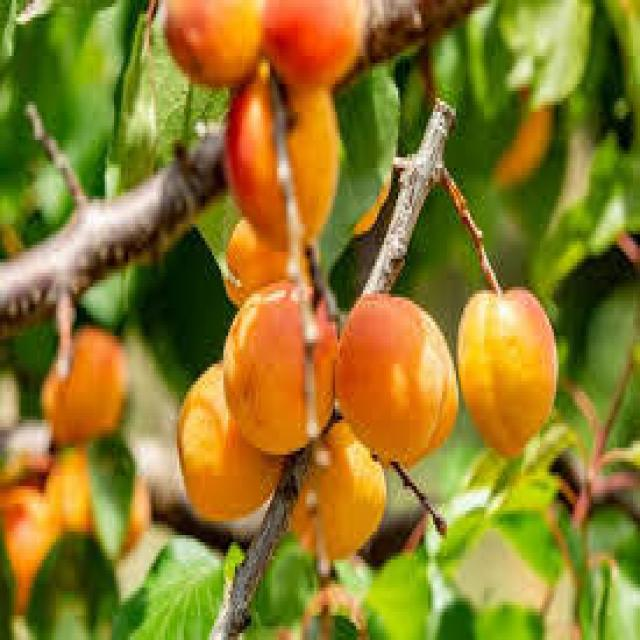kayisi: (219, 51, 348, 260), (332, 282, 462, 469), (166, 351, 305, 522), (220, 277, 341, 454), (455, 270, 562, 469), (287, 408, 390, 571), (257, 0, 374, 94), (161, 0, 273, 90)
